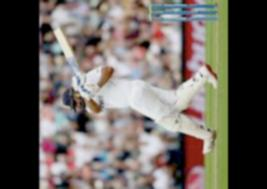batsman: (49, 37, 224, 174)
